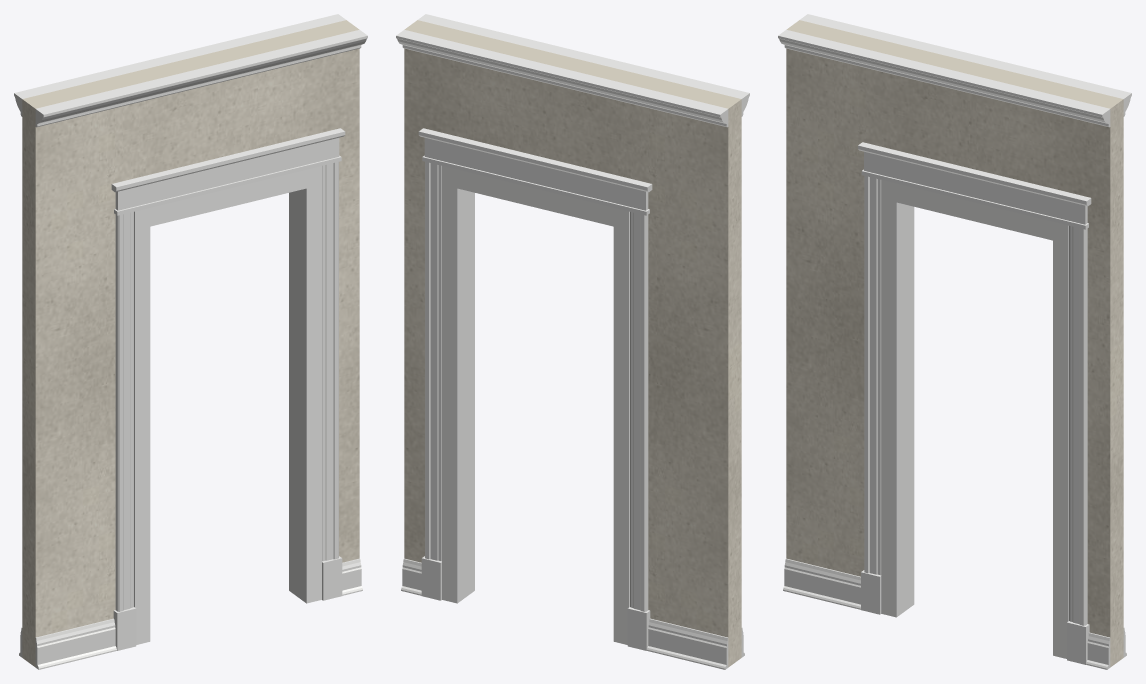
The model's file is interior_wall_end_doorway.glb.
3 renders of one model, left to right at view 1: azimuth 30°, elevation 25°; view 2: azimuth 150°, elevation 25°; view 3: azimuth 330°, elevation 25°, orthographic.
Visible parts, largest first — view 1: interior_wall_end_doorway_plaster, molduras, interior_wall_end_doorway_frame; view 2: interior_wall_end_doorway_plaster, molduras, interior_wall_end_doorway_frame; view 3: interior_wall_end_doorway_plaster, molduras, interior_wall_end_doorway_frame.
Part boxes in pixels (x1,y1,x2,y2): interior_wall_end_doorway_plaster: [22, 20, 359, 667]; molduras: [14, 14, 367, 669]; interior_wall_end_doorway_frame: [134, 166, 321, 644]; interior_wall_end_doorway_plaster: [404, 20, 741, 667]; molduras: [396, 14, 749, 669]; interior_wall_end_doorway_frame: [442, 166, 629, 644]; interior_wall_end_doorway_plaster: [786, 20, 1123, 667]; molduras: [778, 14, 1131, 669]; interior_wall_end_doorway_frame: [881, 180, 1068, 658].
Bounding box in the file's own units: 1.7 × 2.8 × 0.27.
3 materials, 1 textured.
